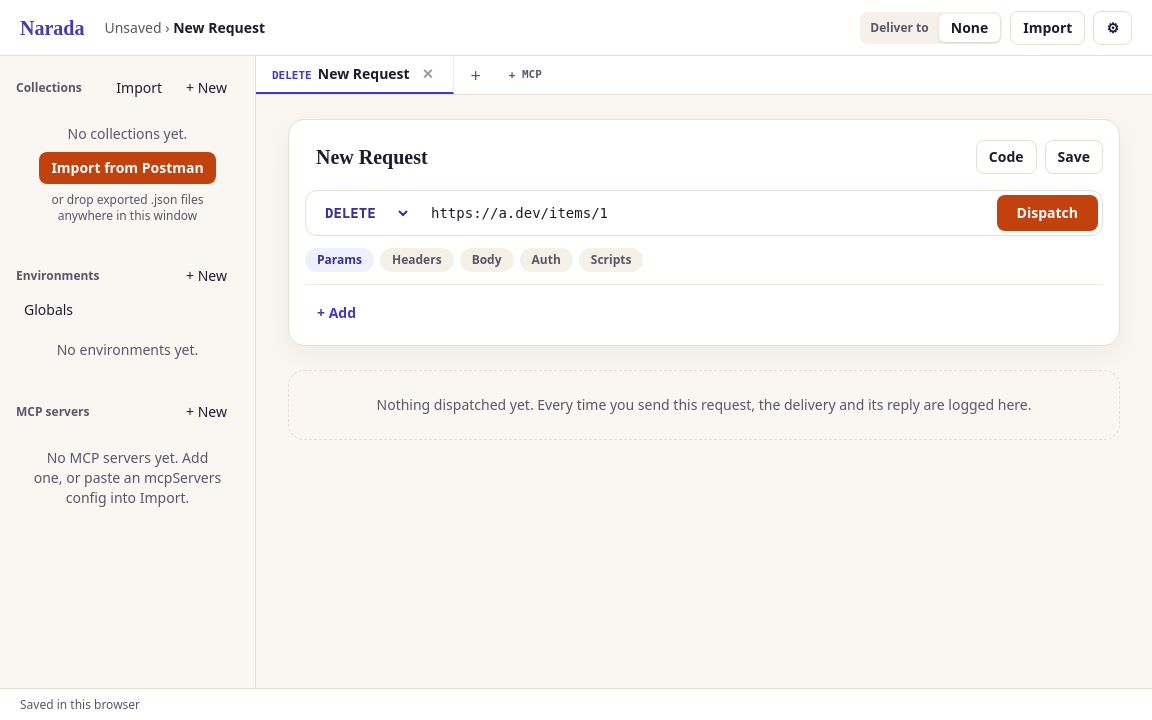
it: scripts, runner, code generation and OAuth › generates code for the current request
This screenshot has width=1152, height=720.
Expected: the heading "Narada" is shown, [20,14,84,42]
Click the button "Code" at (1006, 157), box [976,140,1036,174]
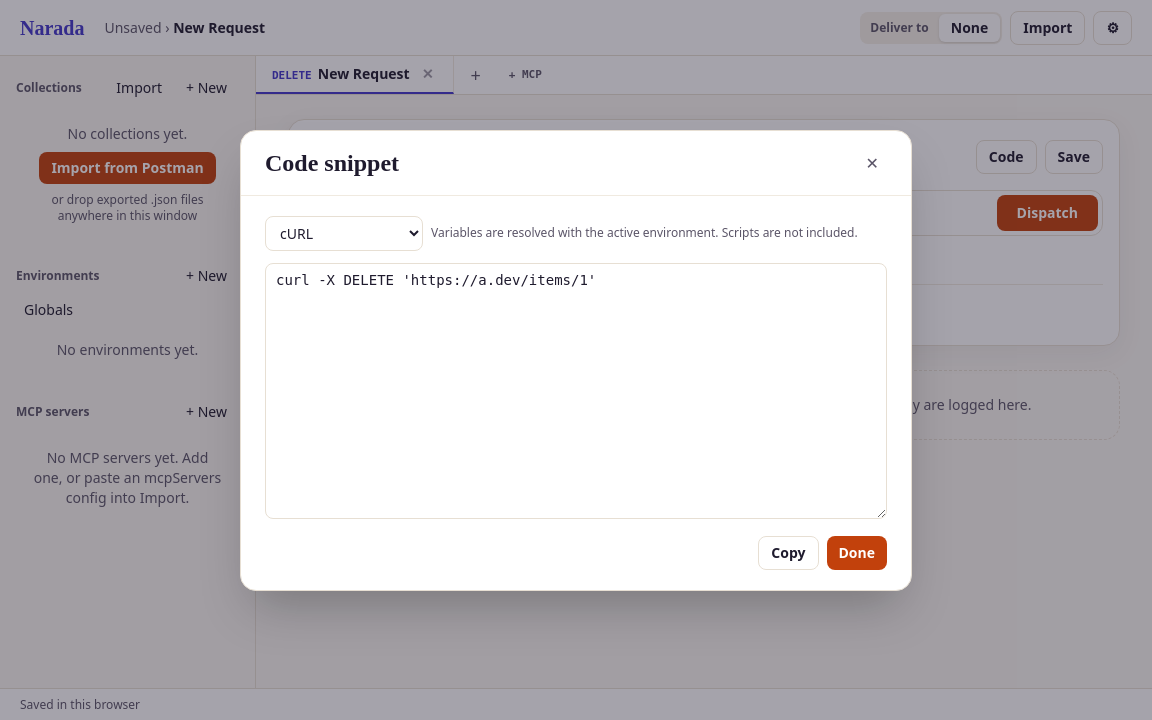
Expected: the text box named "Generated code" holds "curl -X DELETE 'https://a.dev/items/1'", [265,262,887,518]
Select "Python (requests)" in the dropdown named "Language" at (344, 233), box [265,216,423,250]
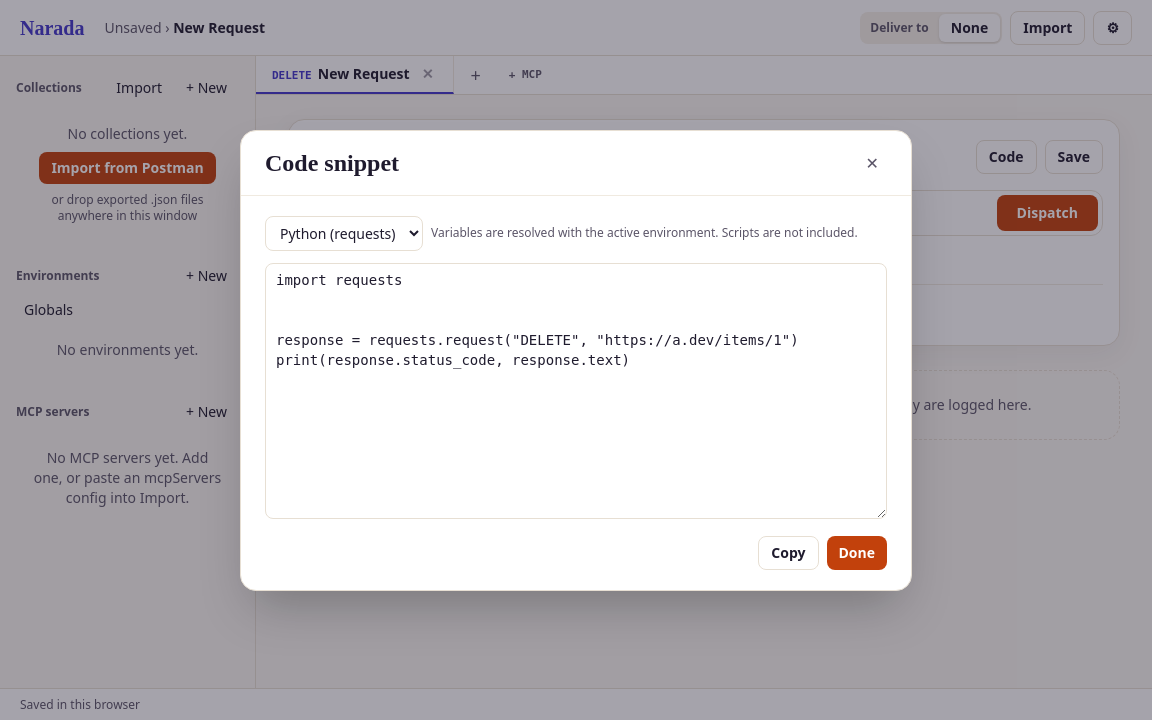
Click the button "Done" at (857, 552), box [826,536,887,570]
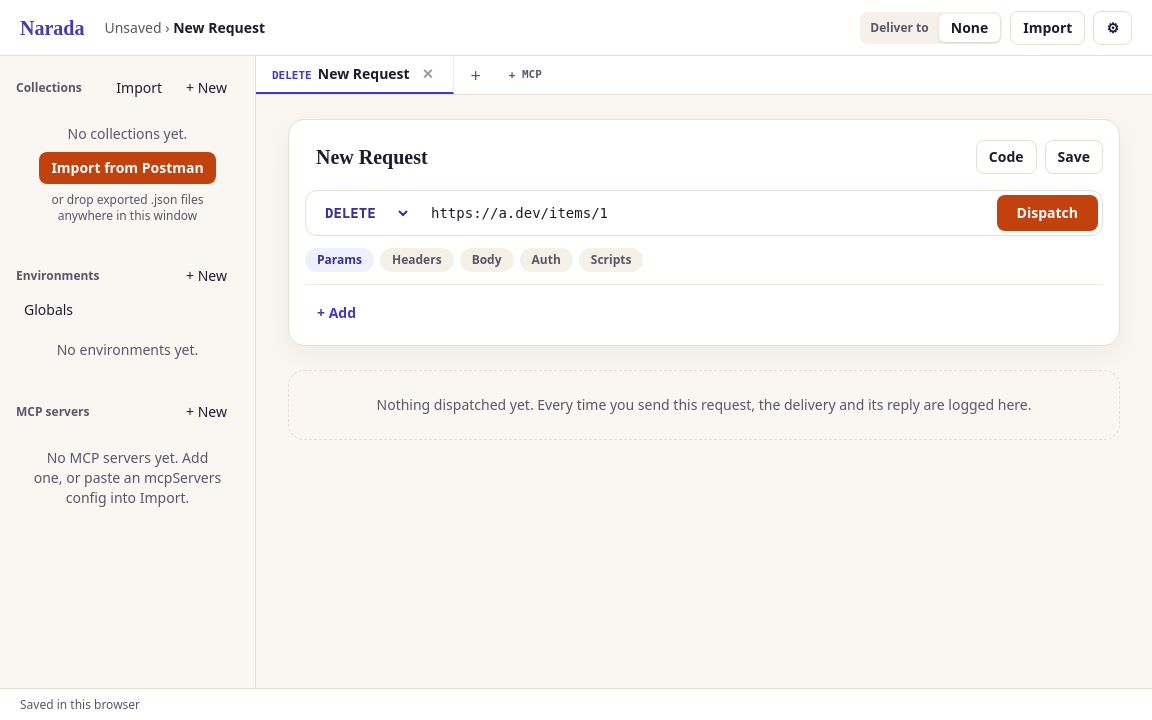
Expected: the dialog is gone
